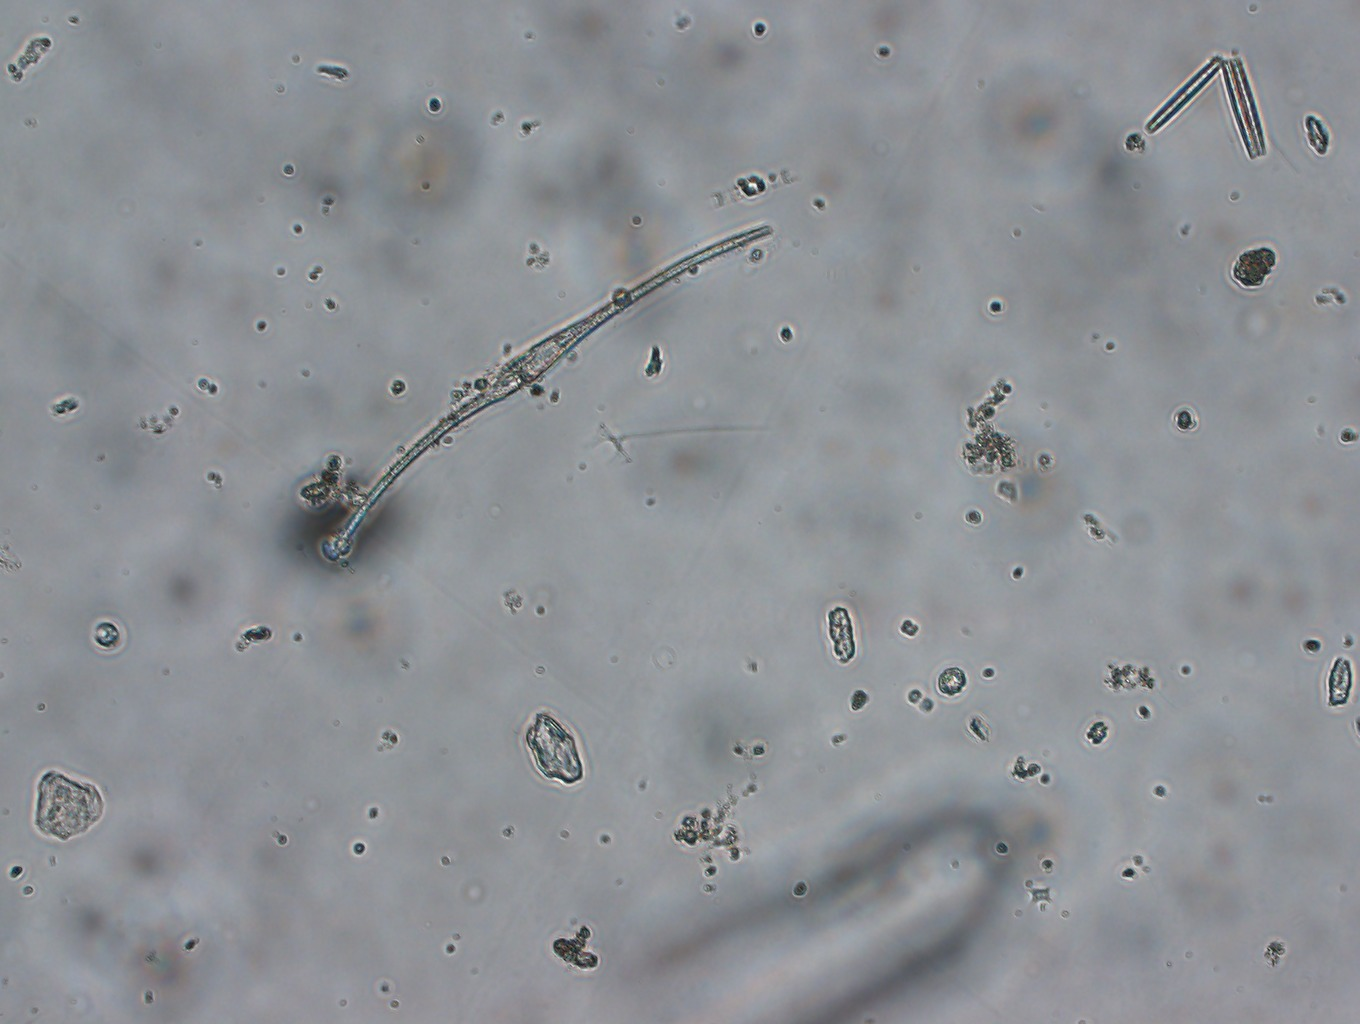ceratium fusus: (330, 216, 774, 545)
thalassionema nitzschioides: (1144, 43, 1272, 163)
